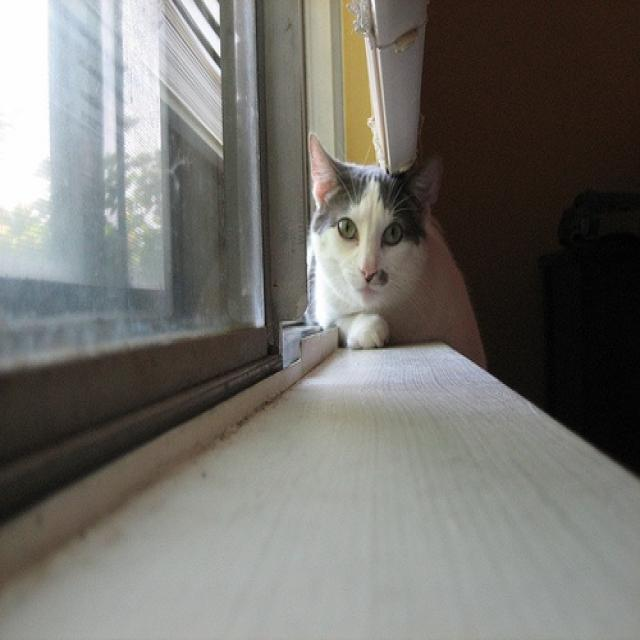cat: (294, 118, 494, 375)
